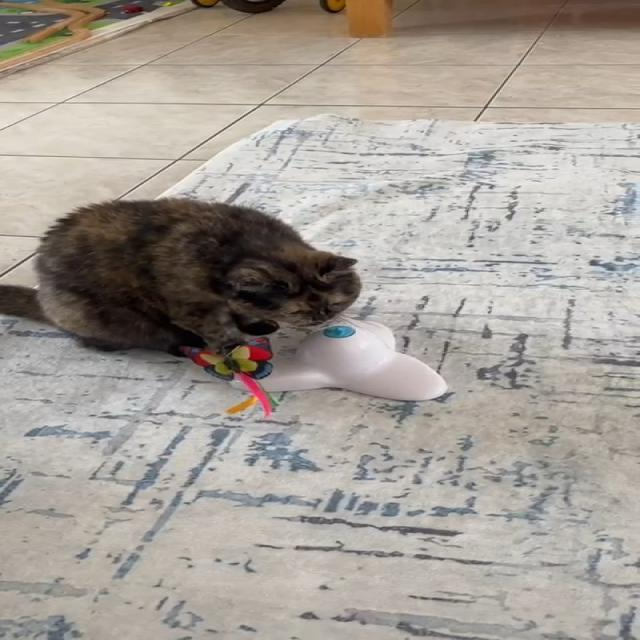authorized: (0, 196, 363, 359)
